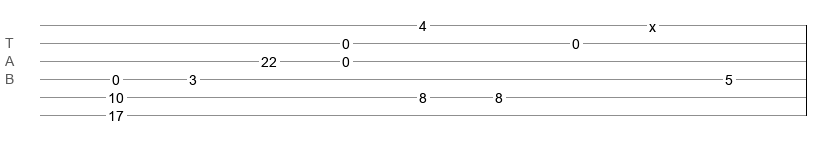0: (112, 72, 120, 82), (342, 54, 350, 64), (342, 36, 350, 46), (572, 36, 580, 46)
10: (108, 90, 124, 100)
17: (108, 108, 124, 118)
22: (261, 54, 277, 64)
3: (189, 72, 197, 82)
4: (419, 18, 427, 28)
5: (725, 72, 733, 82)
8: (419, 90, 427, 100), (495, 90, 503, 100)
x: (649, 19, 656, 27)
